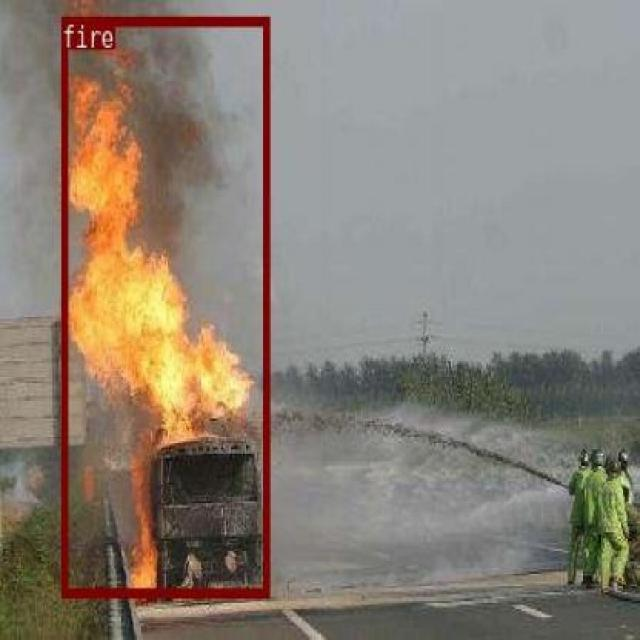fire: (60, 16, 268, 596)
